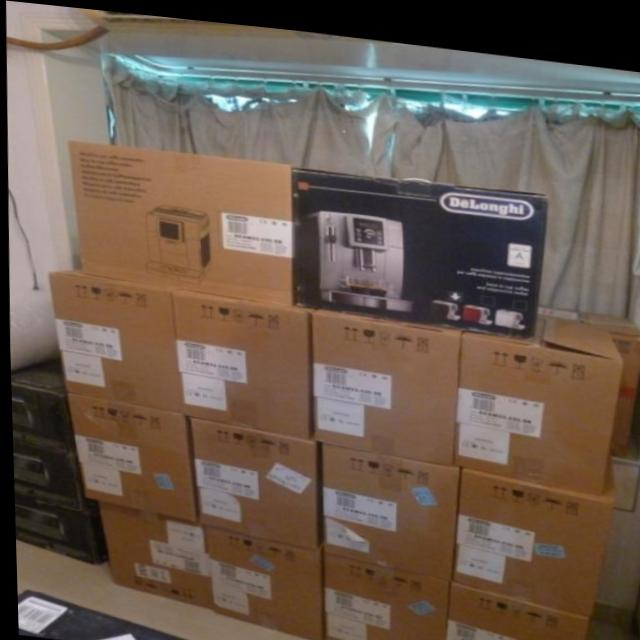box: (289, 159, 545, 330), (66, 139, 293, 302), (452, 303, 619, 483), (449, 449, 614, 604), (305, 303, 460, 458), (171, 284, 306, 434), (319, 435, 457, 572), (47, 270, 179, 409), (186, 413, 316, 546), (63, 391, 193, 519), (534, 292, 640, 444), (198, 520, 316, 635), (318, 544, 448, 640), (95, 500, 204, 606), (443, 573, 586, 640), (14, 589, 195, 640), (12, 485, 102, 564), (9, 356, 68, 441), (11, 431, 78, 498)
